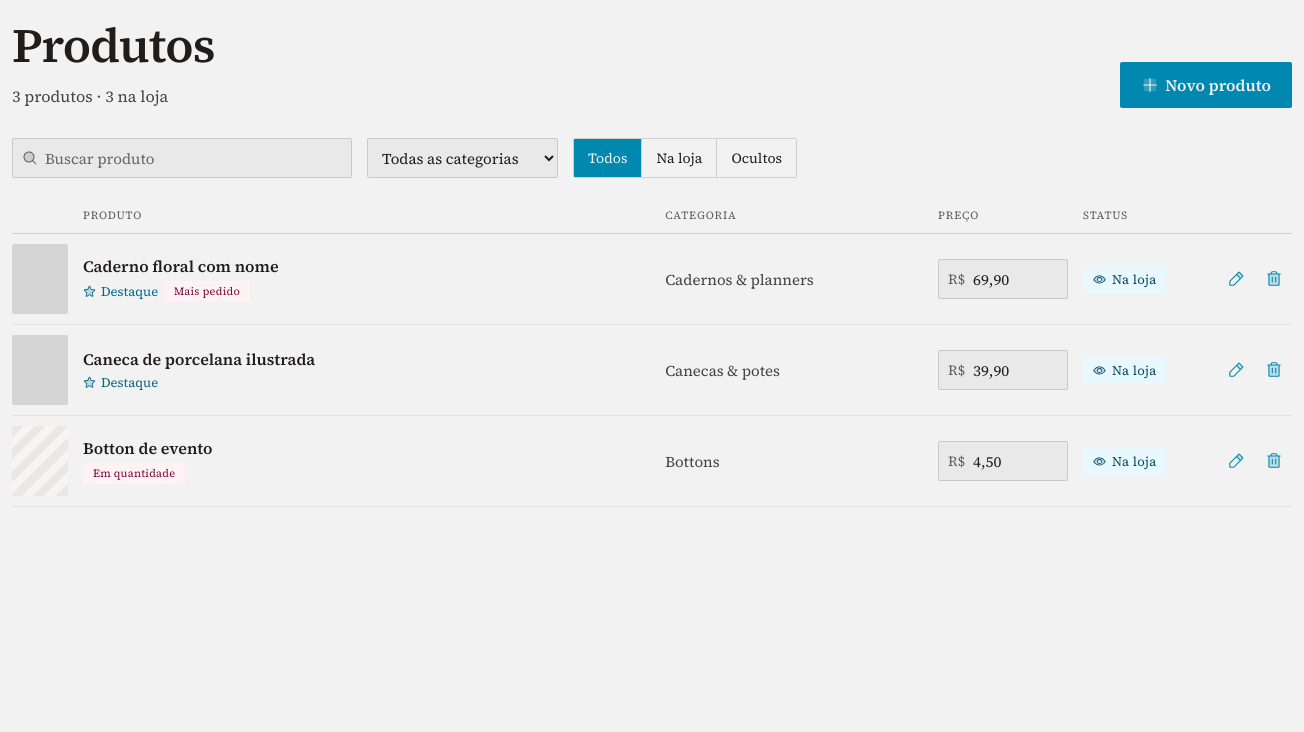
ProductsPanel › saves a price typed with comma when leaving the field
The image size is (1304, 732).
Replace the text in the field named "Preço de Caderno floral com nome" with "45,90" at (1003, 279), box [938,259,1068,299]
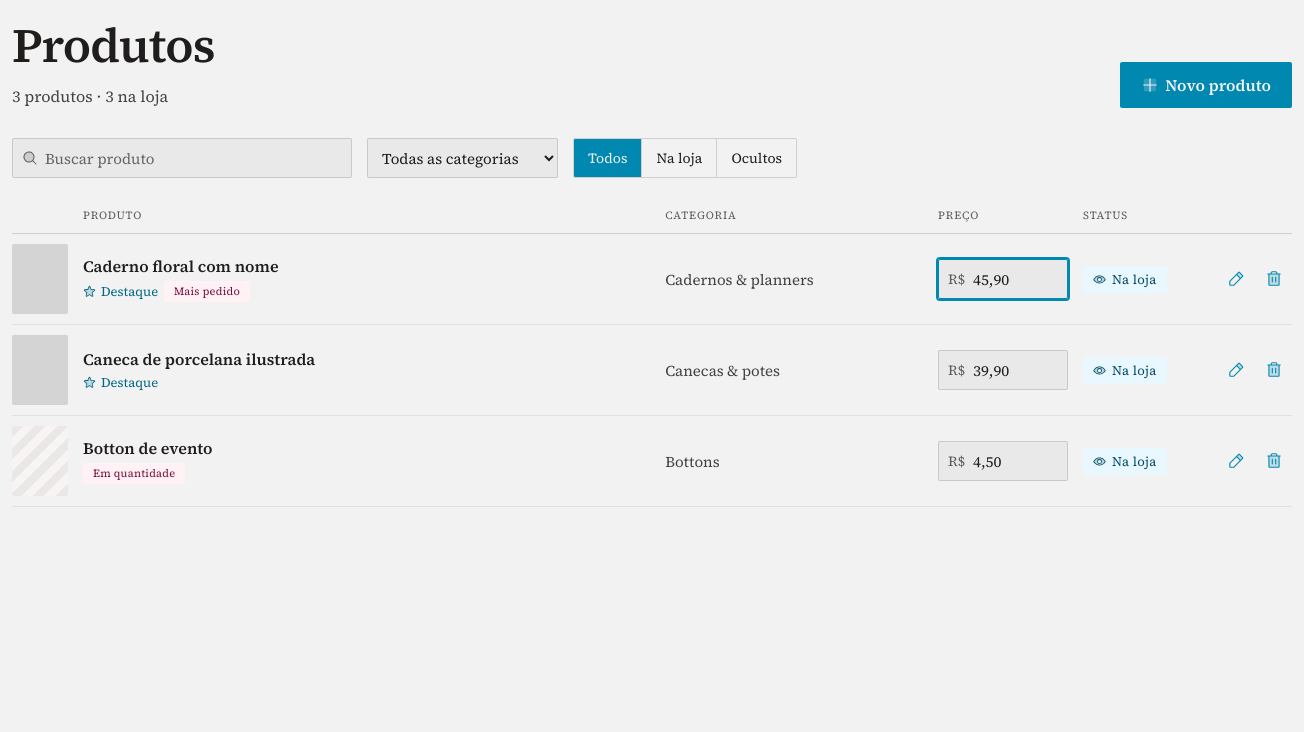
Press Tab
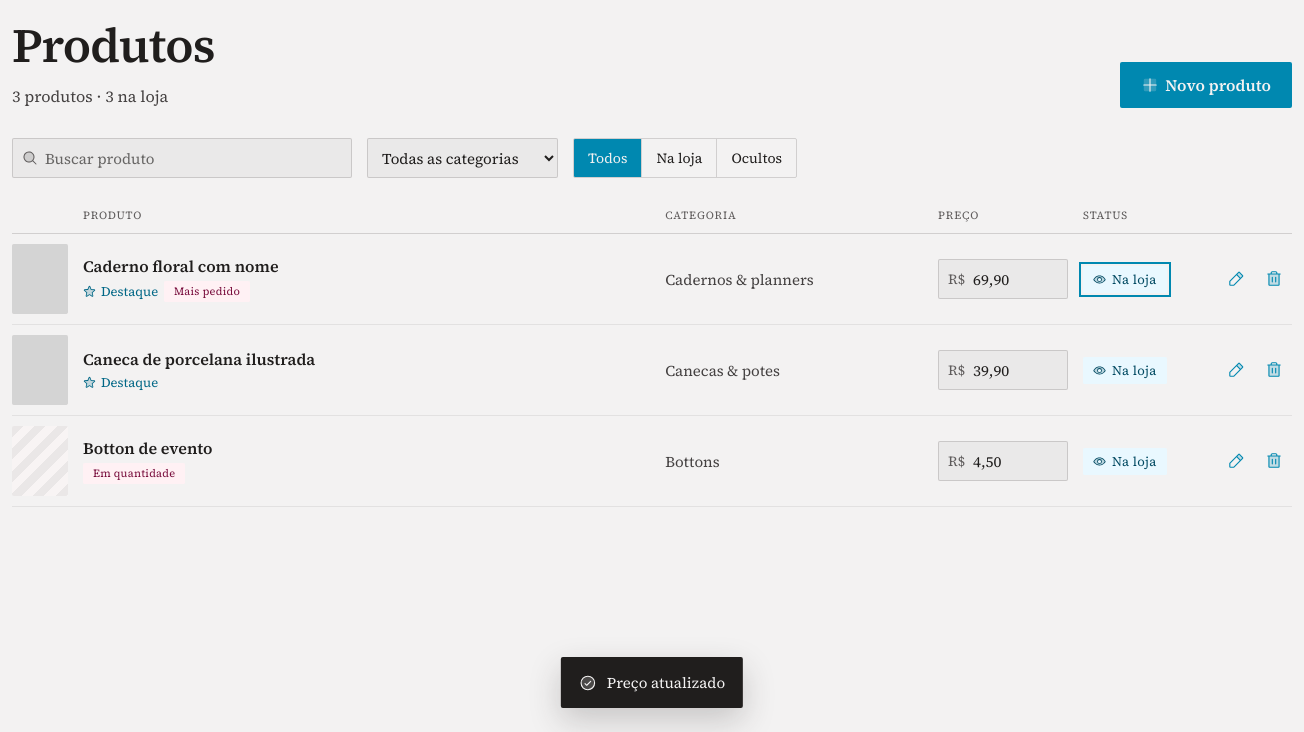
expect the message reads "Preço atualizado": met, box [607,672,725,693]
